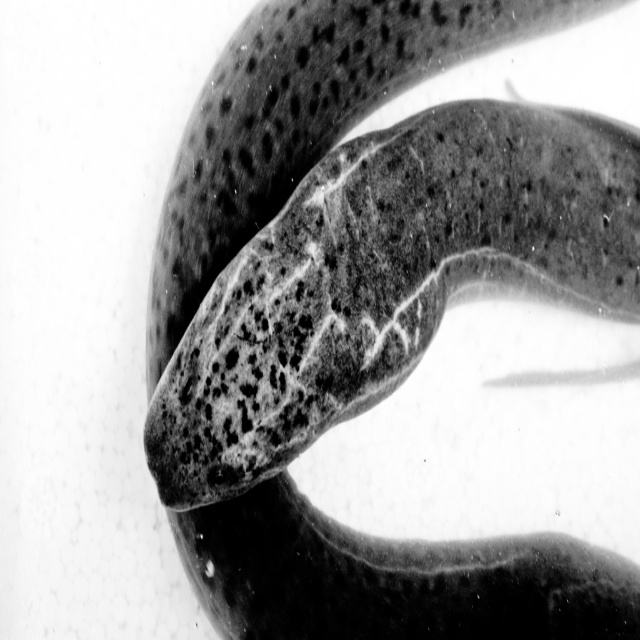Snake: (143, 0, 640, 639)
